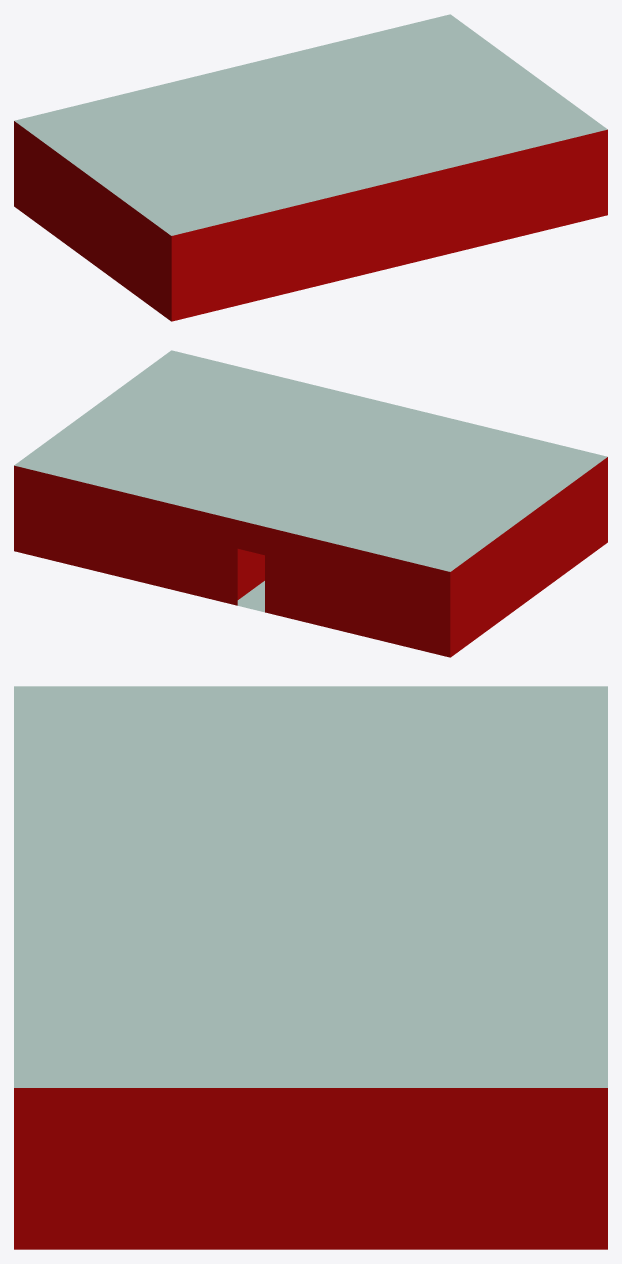
File: Uma'sRoom.fbx
3 views of the same model, one above another, from view 1: azimuth 30°, elevation 25°; view 2: azimuth 150°, elevation 25°; view 3: azimuth 270°, elevation 25° (orthographic). The views are drawn at different scales.
Parts seen in each view (by area): view 1: livingroom; view 2: livingroom; view 3: livingroom.
Boxes of the visible parts, box(x1,y1,x2,y2) form: livingroom: box(14, 14, 607, 321); livingroom: box(14, 350, 607, 657); livingroom: box(14, 686, 607, 1249).
Bounding box in the file's own units: 1600 × 1000 × 301.
